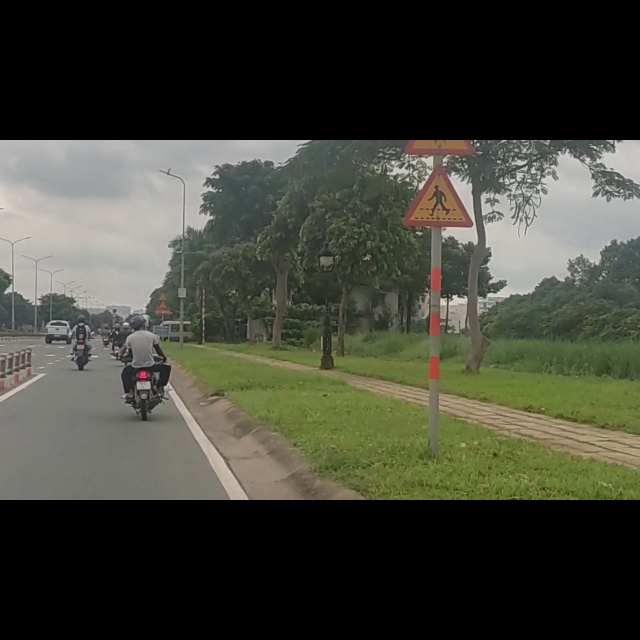bien_nguy_hiem: (404, 43, 473, 156)
